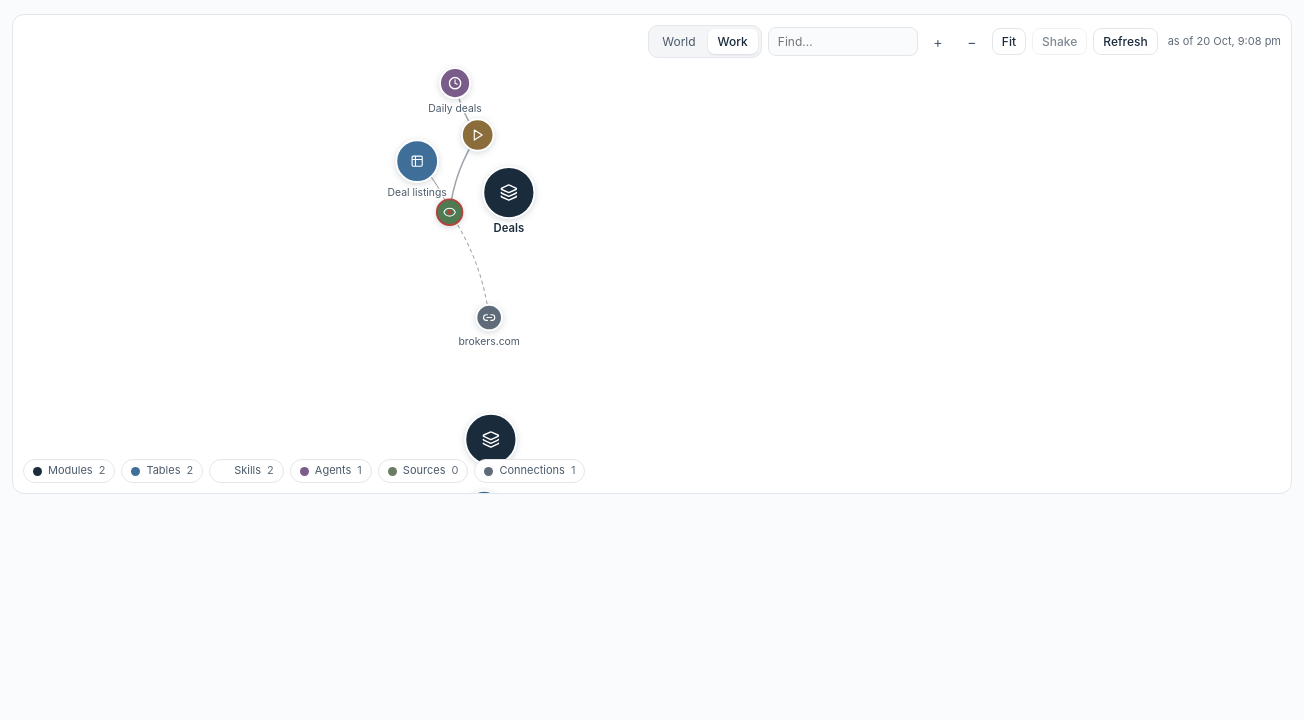
the map › a legend chip hides a kind and its links
The width and height of the screenshot is (1304, 720).
Click the button "Connections 1". click: (530, 471)
box: [474,459,585,483]
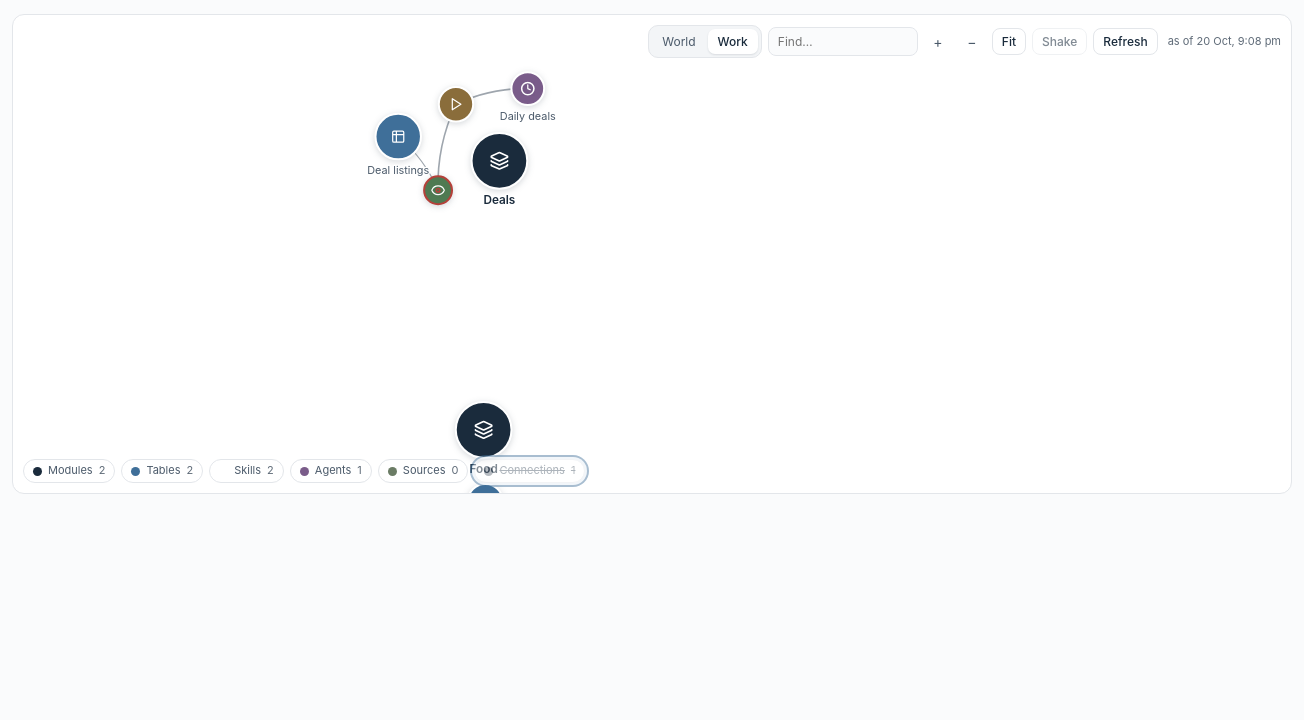
expect the picture named "7 things and 3 links" is shown: met
